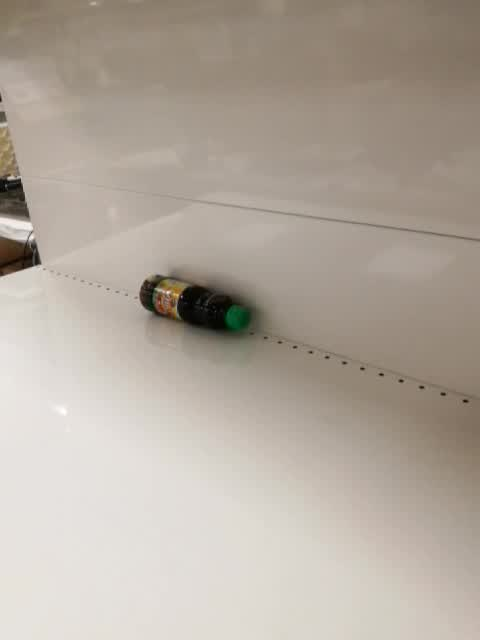cookingoil: (136, 270, 254, 335)
